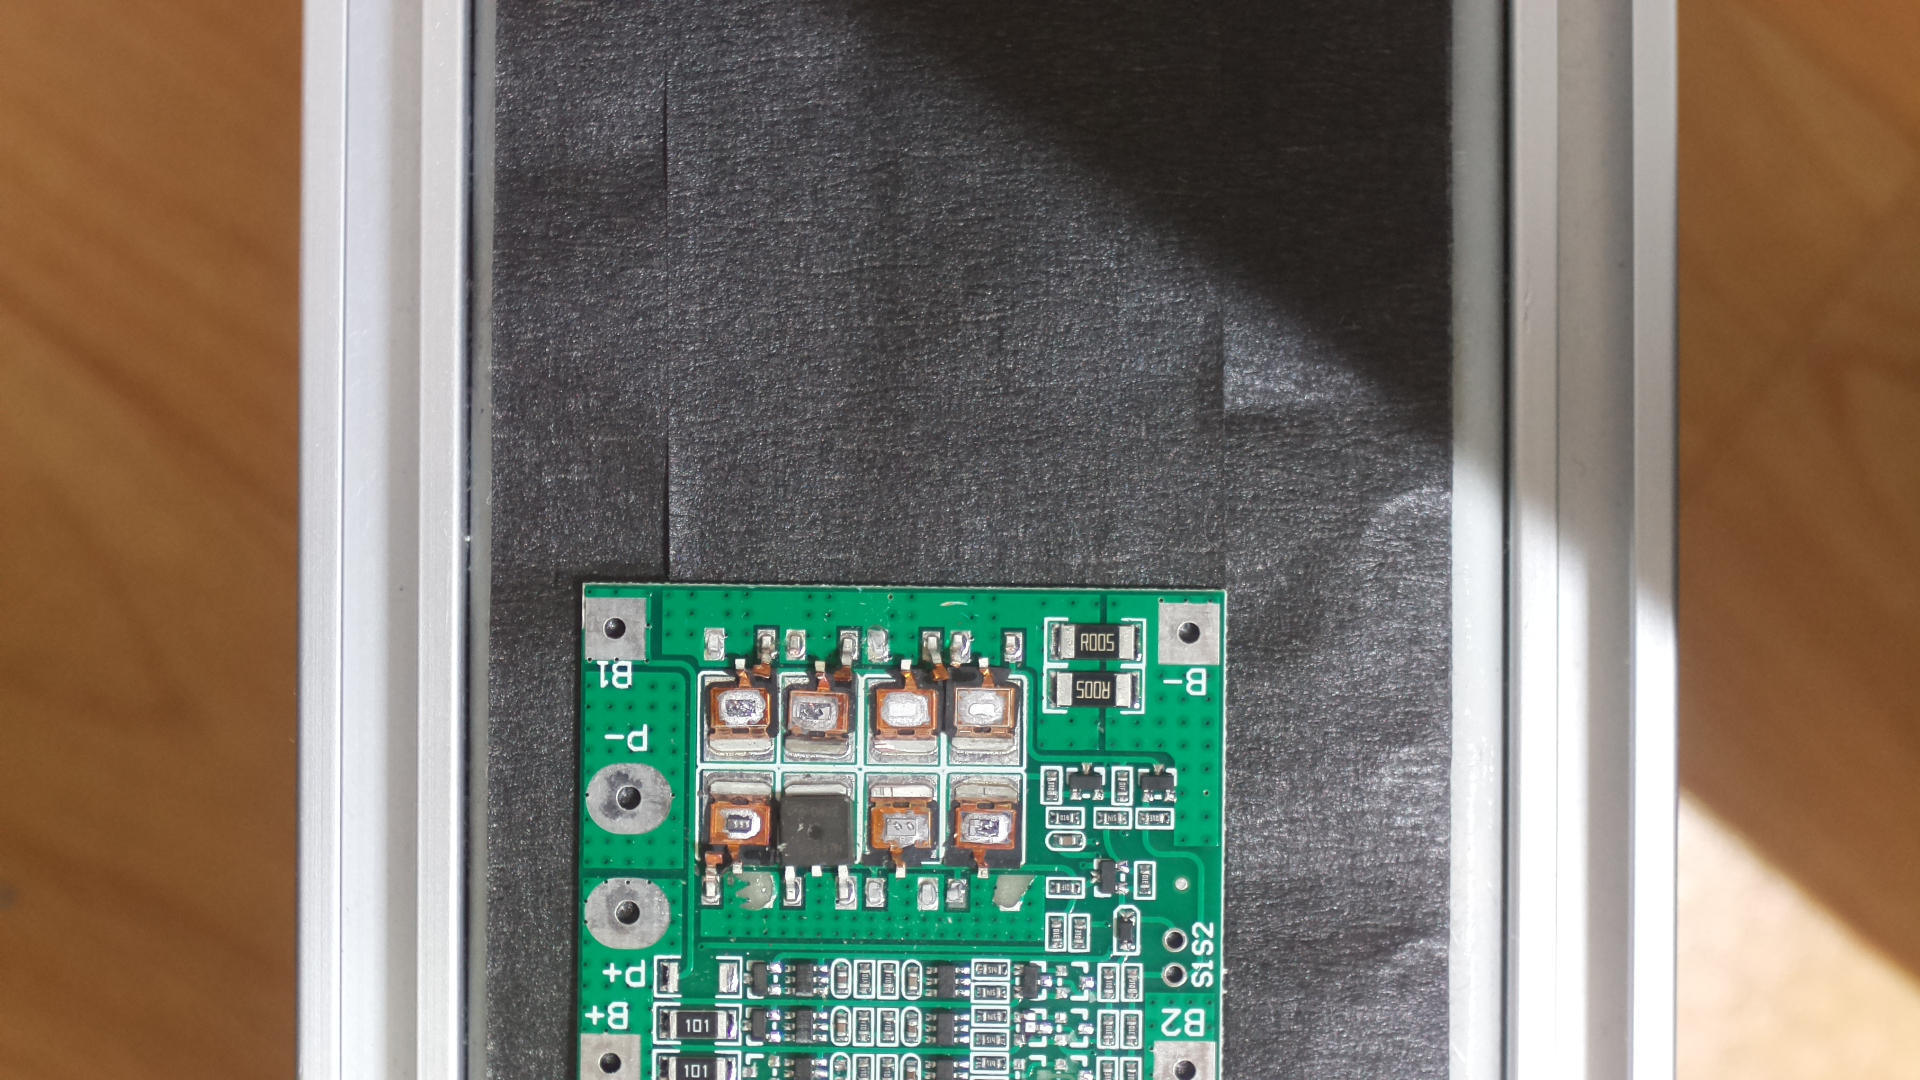C_Missing_part: (549, 554, 1302, 1080)
